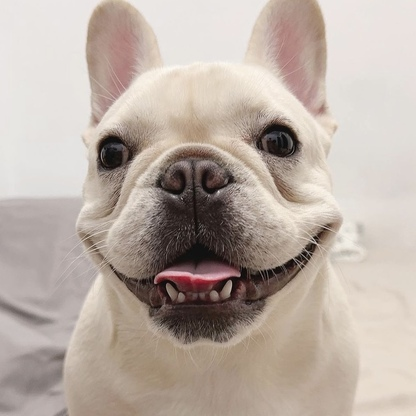bulldog: (69, 1, 368, 416)
